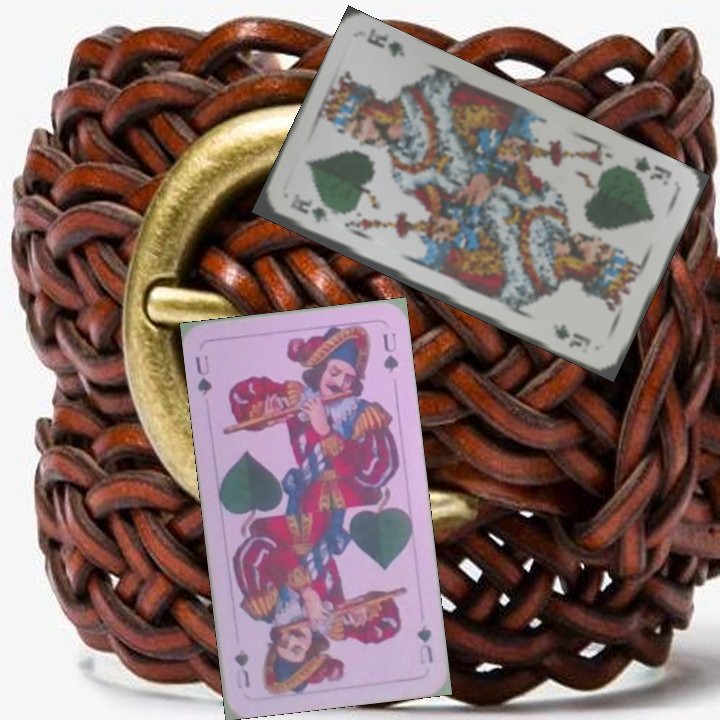GK: (629, 152, 675, 189), (286, 193, 331, 225)
GU: (191, 351, 215, 398), (413, 621, 436, 667)
